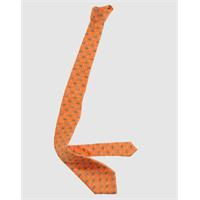tie: (54, 4, 138, 194)
